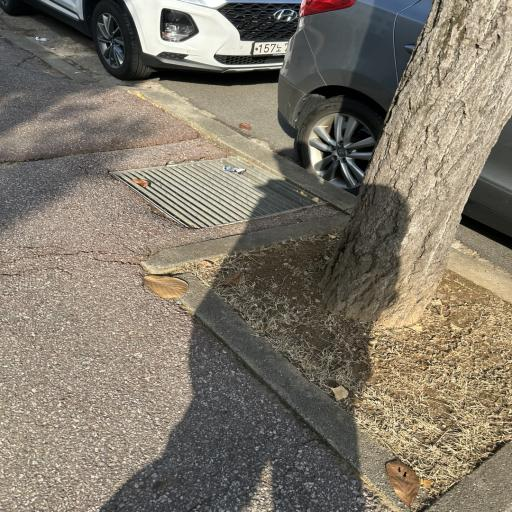drain: (111, 157, 322, 228)
